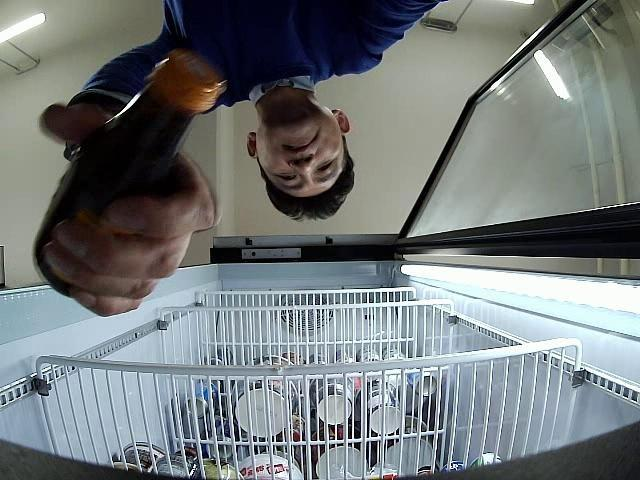17_vita500: (34, 59, 224, 298)
